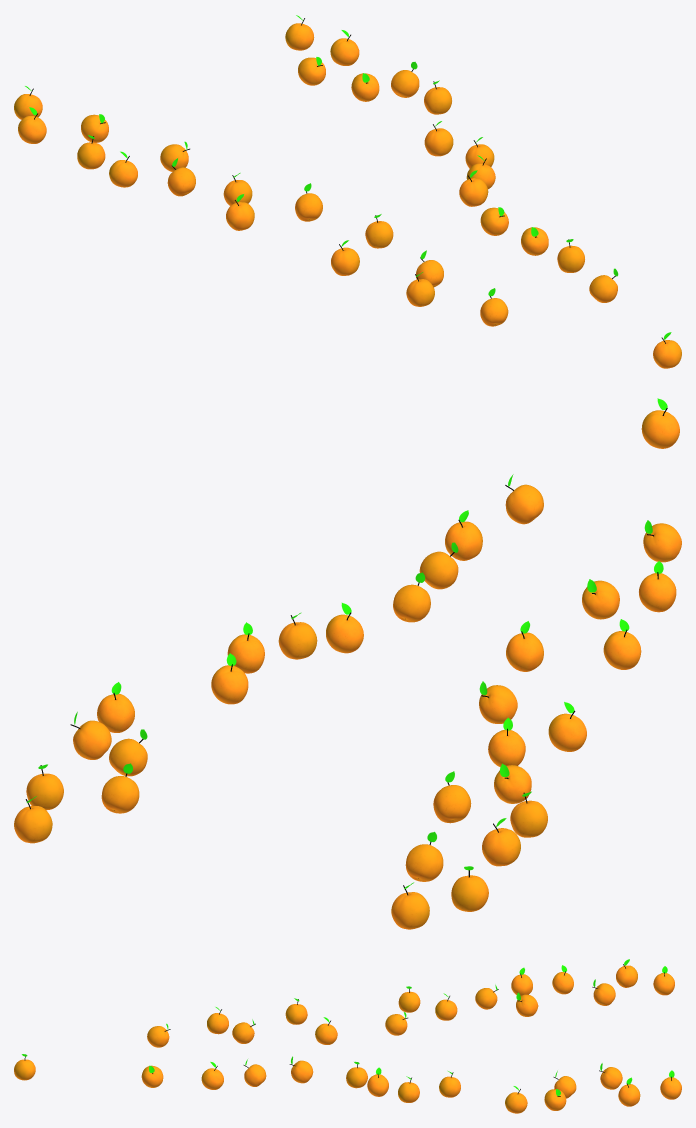
File: Oranges-transformed.glb
3 renders of one model, top to bottom at view 1: azimuth 30°, elevation 25°; view 2: azimuth 150°, elevation 25°; view 3: azimuth 270°, elevation 25°, orthographic. The views are drawn at different scales.
Visible parts, largest first — view 1: Orange.009; view 2: Orange.009; view 3: Orange.009.
Boxes of the visible parts, bbox=[...] form: Orange.009: bbox=[14, 15, 681, 368]; Orange.009: bbox=[14, 398, 681, 929]; Orange.009: bbox=[14, 959, 681, 1113].
Size of the model in its own units: 13.16 by 1.23 by 27.39.
Materials: 3 (1 with a texture image).
